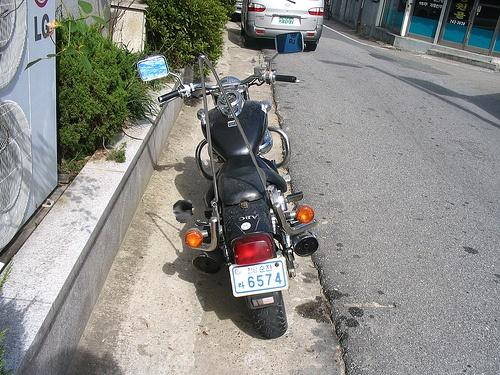tampered: (174, 201, 211, 226)
